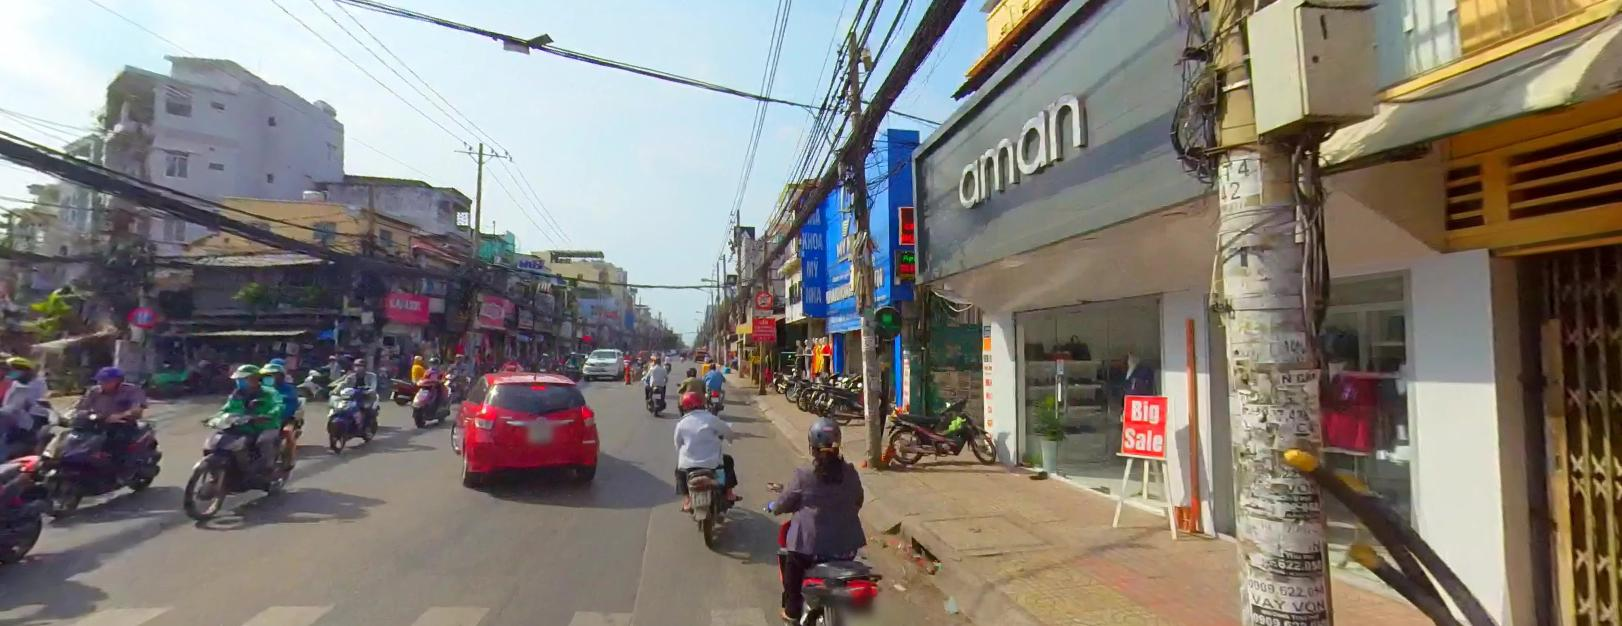Cam con lai: (755, 289, 772, 307)
Cam dung va do: (128, 305, 154, 326)
